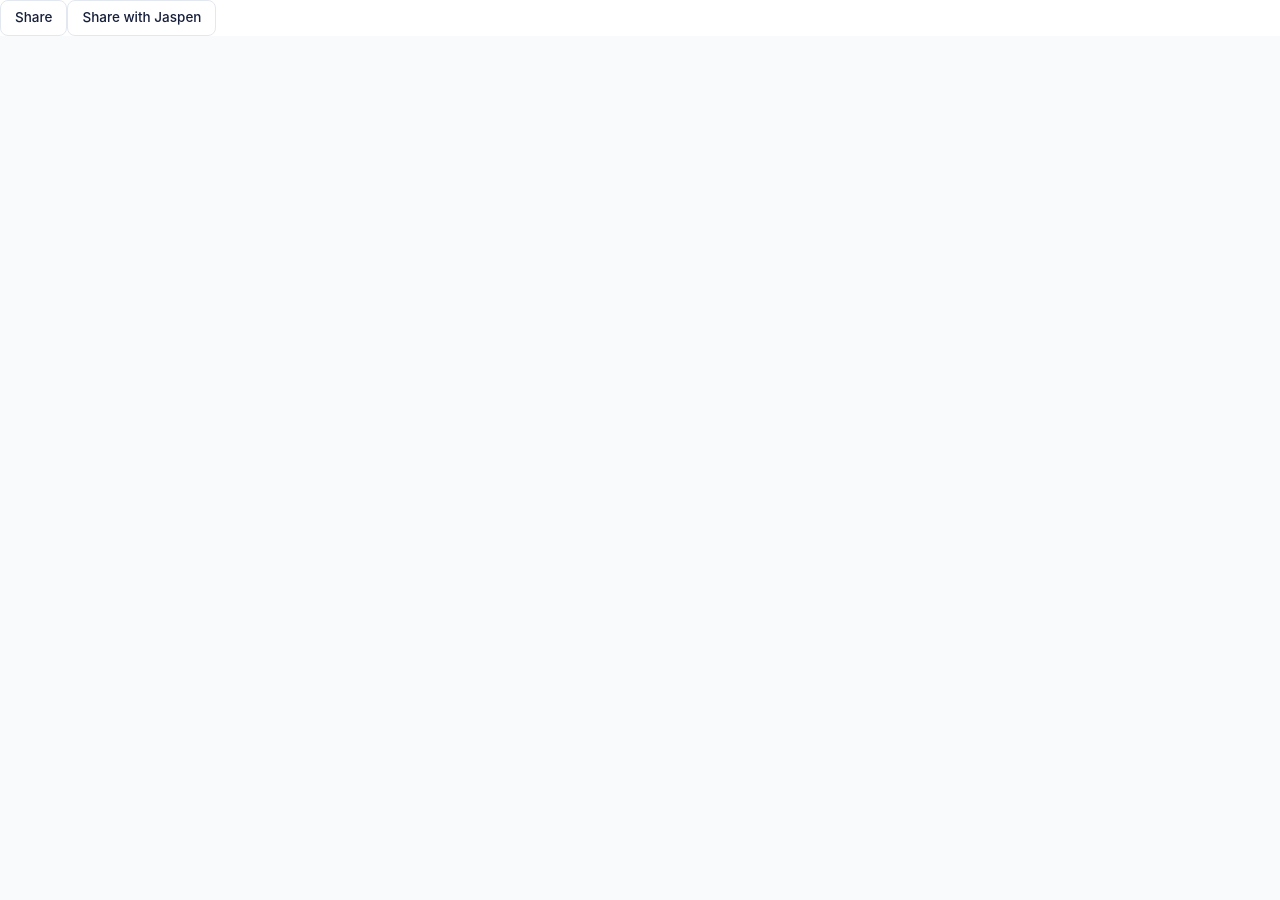
ShareDialog › previews without evidence, then creates a 30-day link by default
Click the button "Share": (34, 18) [0,0,67,36]
(page scrolled)
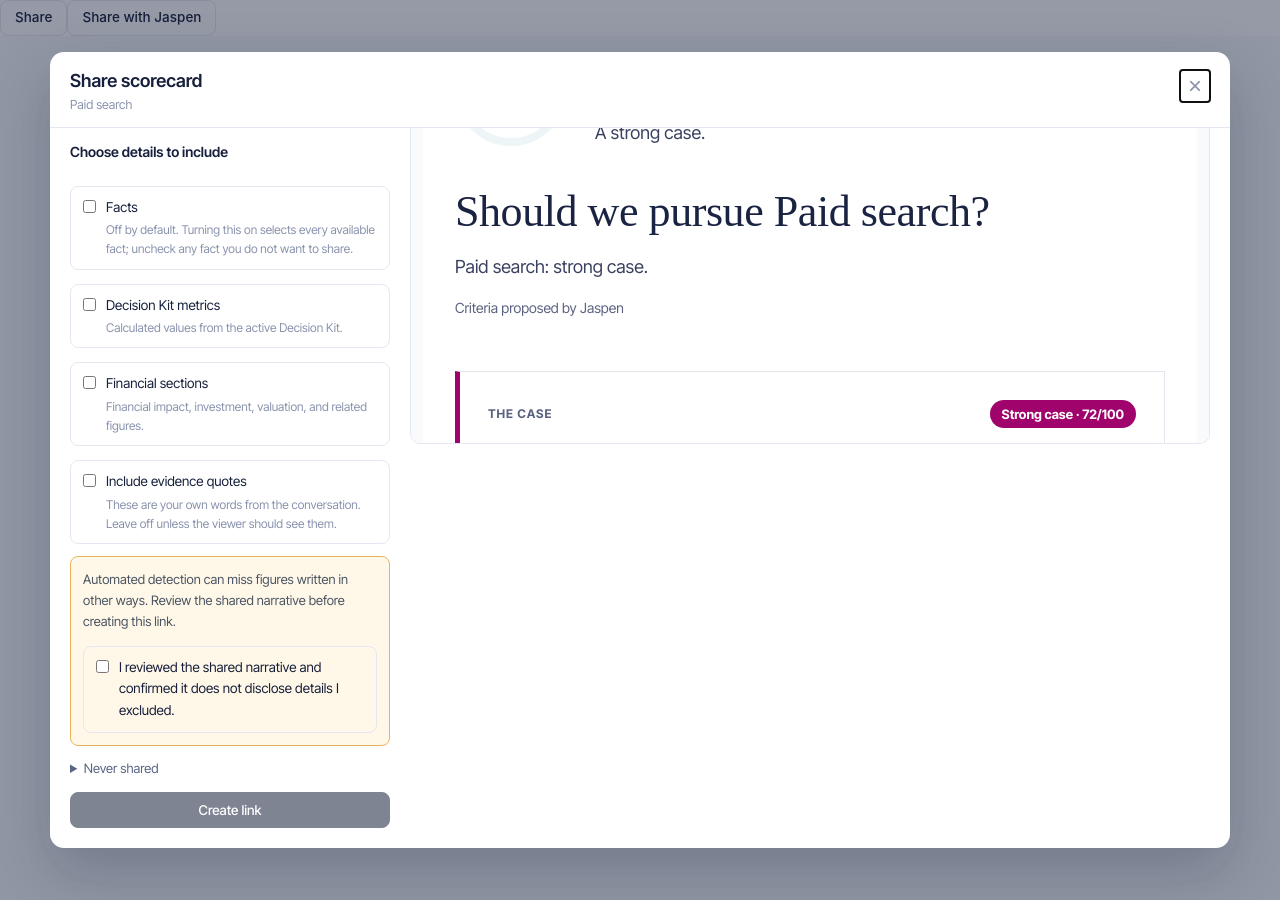
Now the heading "Should we pursue Paid search?" is shown, box [455,187,990,236]
Now the button "Create link" is disabled, box [70,792,390,828]
Click the checkbox labelled "I reviewed the shared narrative": (102, 666) [96,660,109,673]
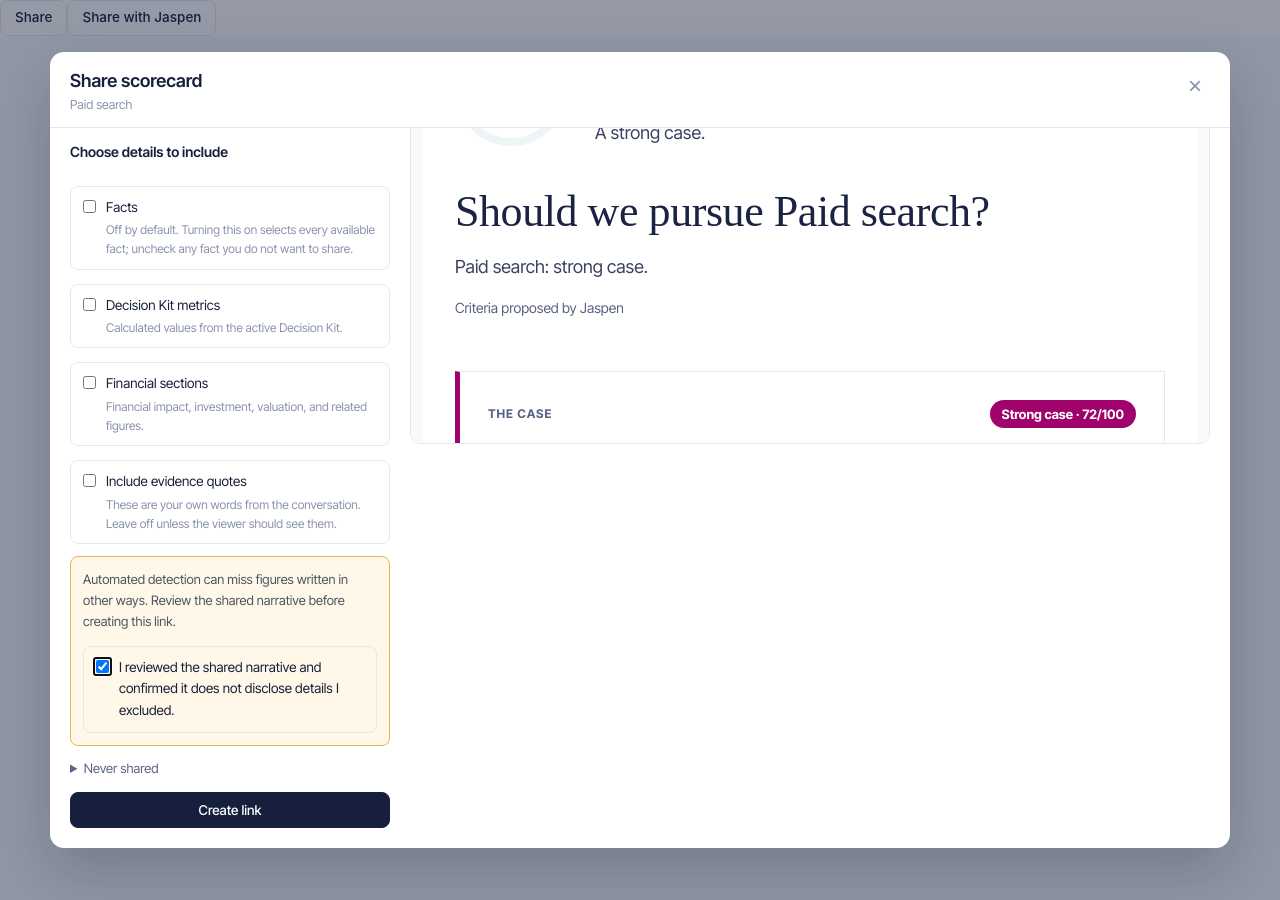
Click the button "Create link": (230, 810) [70,792,390,828]
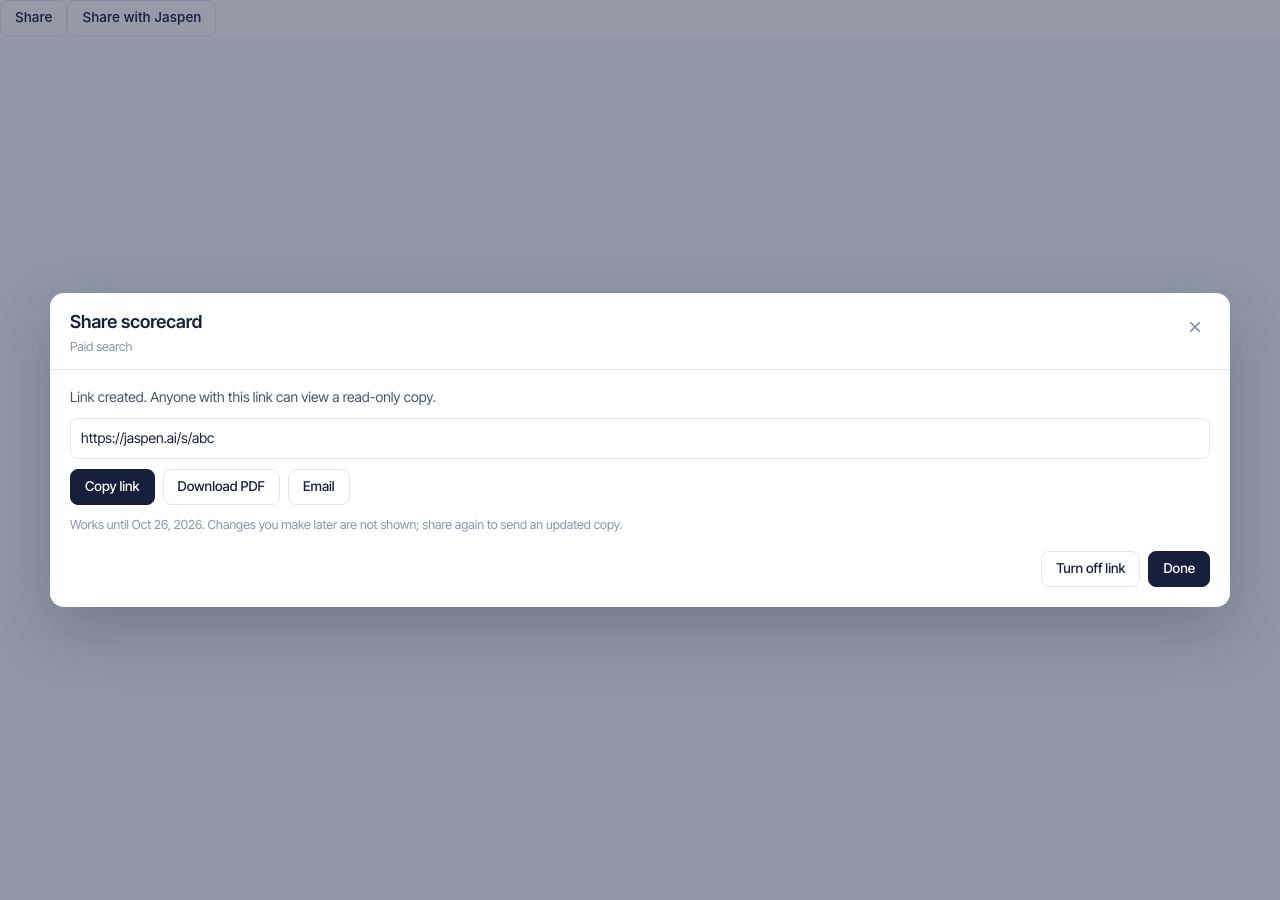
Now the field showing "https://jaspen.ai/s/abc" is shown, box [70,418,1210,459]
